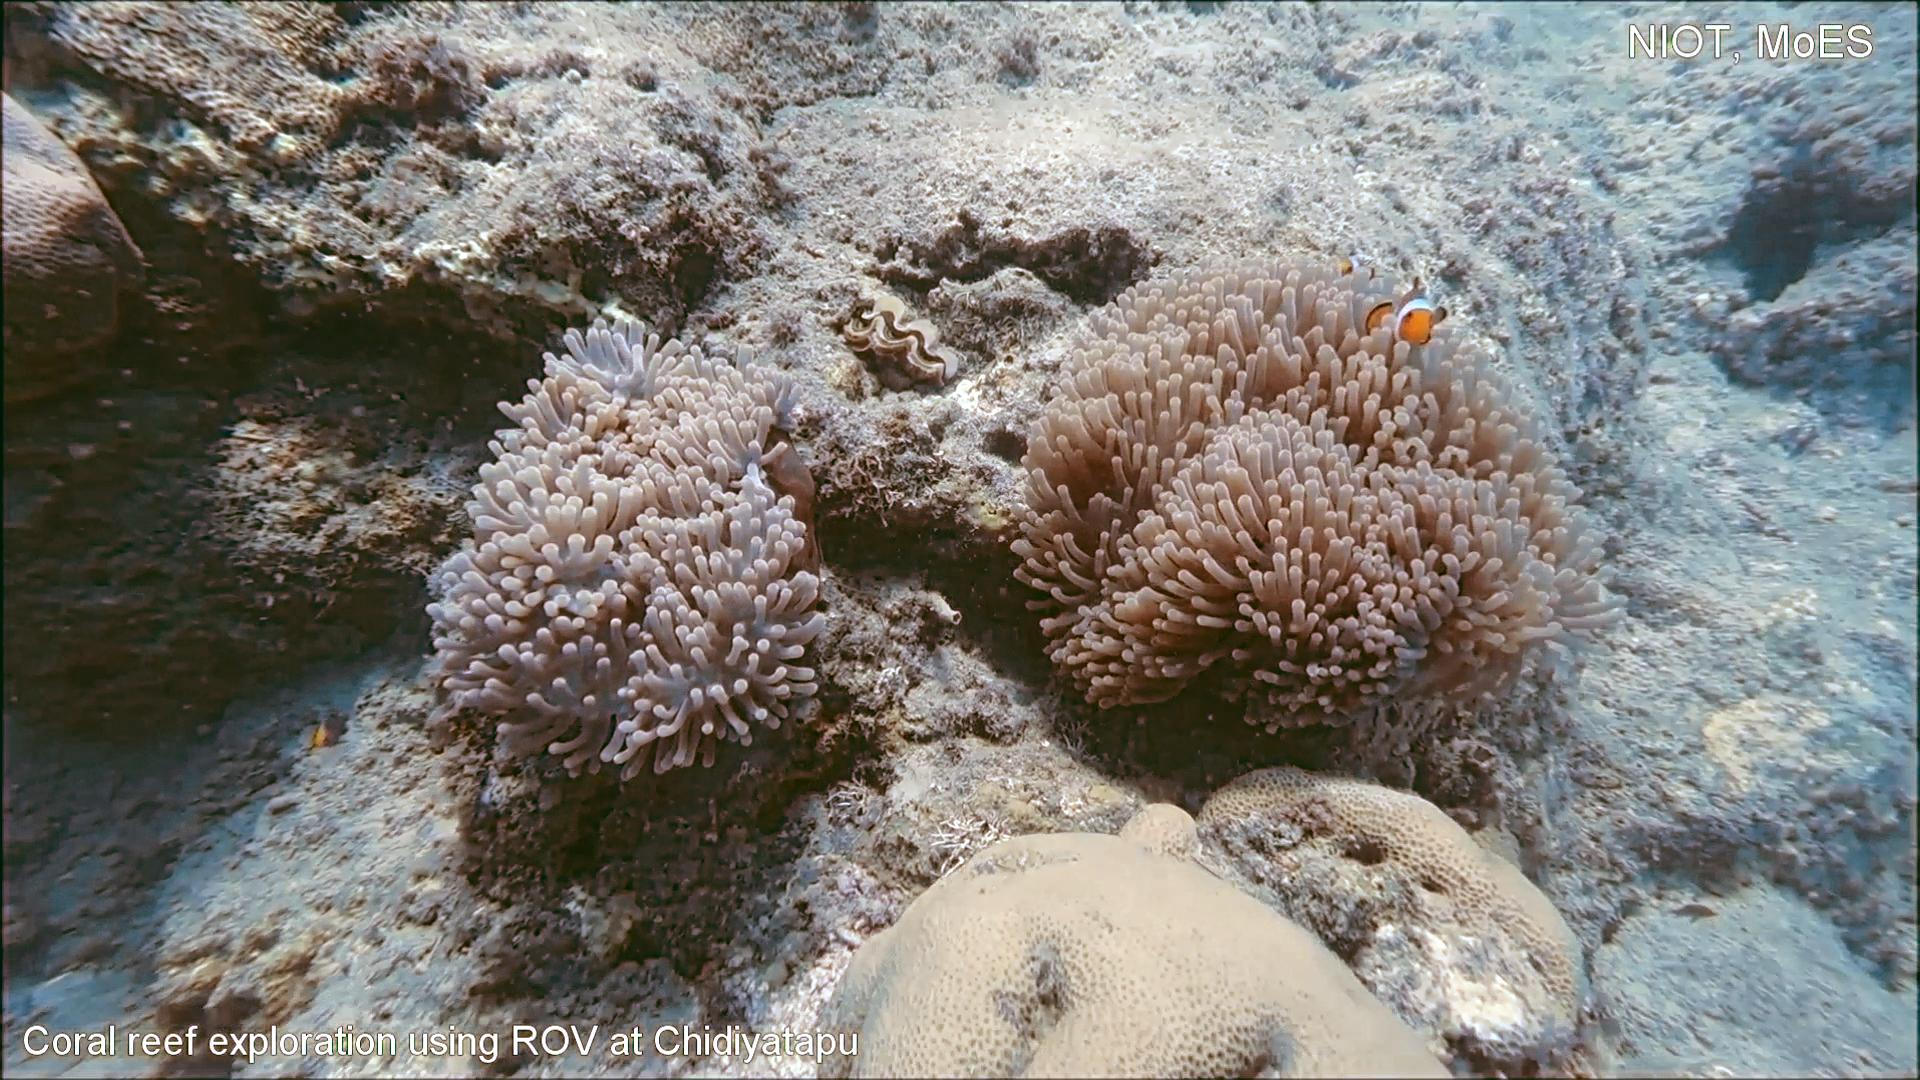Macrodactyla doreensis-Long tentacle Anemone: (1006, 236, 1636, 748), (419, 301, 832, 786)
Tridacna Clam: (825, 284, 968, 396)
